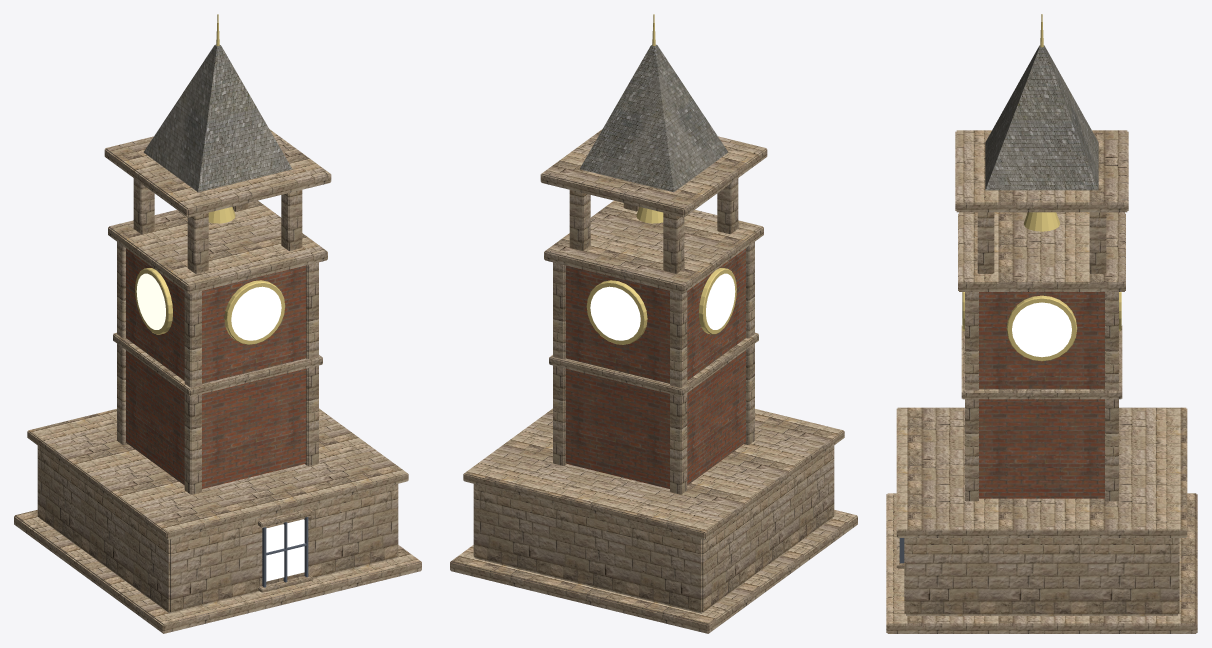
The model's file is landmark_campanile_clocktower.glb.
The picture shows the model from 3 angles, left to right: view 1: azimuth 30°, elevation 25°; view 2: azimuth 150°, elevation 25°; view 3: azimuth 270°, elevation 25°; orthographic projection. The views are drawn at different scales.
Visible parts, largest first — view 1: ShaftBody, LowerHall, HallCornice, SlateSpire, ClockCornice, BasePlinth, BelfryCap, CornerPil_-2.8_-2.8, CornerPil_2.8_-2.8, MidBelt, Face_S, CampDoor_glass (+7 smaller); view 2: LowerHall, ShaftBody, HallCornice, SlateSpire, ClockCornice, BasePlinth, BelfryCap, CornerPil_-2.8_2.8, CornerPil_2.8_2.8, MidBelt, Face_N, CornerPil_-2.8_-2.8 (+6 smaller); view 3: HallCornice, LowerHall, ShaftBody, SlateSpire, ClockCornice, BasePlinth, BelfryCap, CornerPil_2.8_2.8, CornerPil_2.8_-2.8, Face_E, MidBelt, Bezel_E (+3 smaller).
Boxes of the visible parts, x1,y1,x2,y2 form: ShaftBody: [126, 248, 306, 488]; LowerHall: [37, 445, 398, 613]; HallCornice: [27, 408, 408, 539]; SlateSpire: [143, 44, 291, 192]; ClockCornice: [108, 200, 327, 293]; BasePlinth: [14, 510, 421, 633]; BelfryCap: [104, 129, 331, 217]; CornerPil_-2.8_-2.8: [184, 291, 201, 494]; CornerPil_2.8_-2.8: [305, 262, 318, 465]; MidBelt: [113, 332, 322, 396]; Face_S: [231, 286, 281, 340]; CampDoor_glass: [266, 519, 304, 581]; LowerHall: [473, 445, 834, 613]; ShaftBody: [565, 248, 745, 488]; HallCornice: [463, 408, 844, 539]; SlateSpire: [580, 44, 728, 192]; ClockCornice: [544, 200, 763, 293]; BasePlinth: [450, 510, 857, 633]; BelfryCap: [540, 129, 767, 217]; CornerPil_-2.8_2.8: [670, 291, 687, 494]; CornerPil_2.8_2.8: [553, 262, 566, 465]; MidBelt: [549, 332, 758, 396]; Face_N: [590, 286, 640, 340]; CornerPil_-2.8_-2.8: [744, 242, 754, 444]; HallCornice: [896, 407, 1187, 537]; LowerHall: [904, 538, 1179, 615]; ShaftBody: [979, 292, 1104, 498]; SlateSpire: [985, 45, 1098, 190]; ClockCornice: [958, 212, 1125, 291]; BasePlinth: [886, 493, 1197, 633]; BelfryCap: [955, 130, 1128, 212]; CornerPil_2.8_2.8: [1105, 292, 1118, 501]; CornerPil_2.8_-2.8: [965, 292, 978, 501]; Face_E: [1012, 302, 1071, 357]; MidBelt: [961, 325, 1122, 399]; Bezel_E: [1006, 295, 1077, 361].
Size of the model in its own units: 12.2 by 24 by 12.2.
6 materials, 3 textured.
